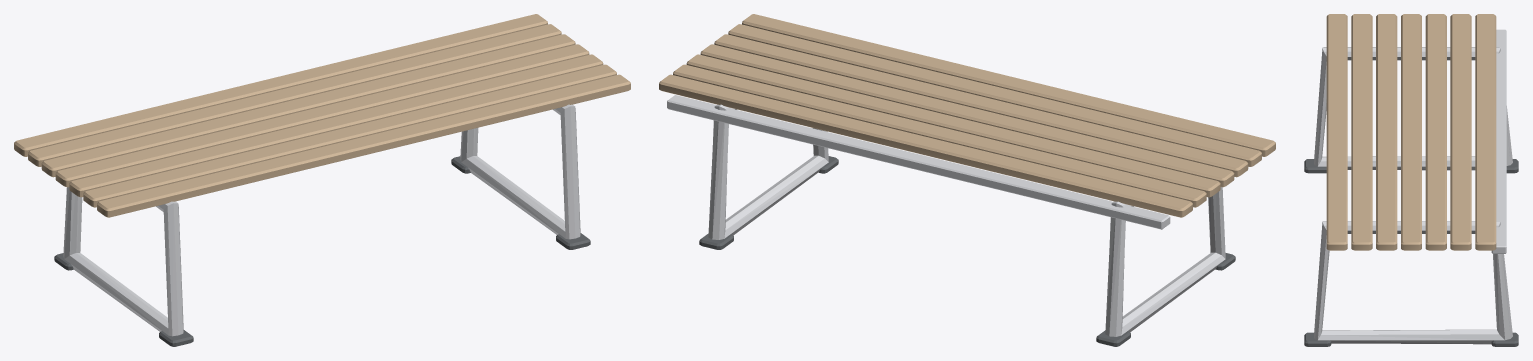
File: SM_Retail_25366_ConcourseBench.fbx
3 renders of one model, left to right at view 1: azimuth 30°, elevation 25°; view 2: azimuth 150°, elevation 25°; view 3: azimuth 270°, elevation 25°, orthographic. The views are drawn at different scales.
Parts seen in each view (by area): view 1: SM_Retail_25366_ConcourseBench; view 2: SM_Retail_25366_ConcourseBench; view 3: SM_Retail_25366_ConcourseBench.
Boxes of the visible parts, x1,y1,x2,y2 form: SM_Retail_25366_ConcourseBench: (14,14,630,346); SM_Retail_25366_ConcourseBench: (659,14,1275,346); SM_Retail_25366_ConcourseBench: (1304,14,1518,346).
Bounding box in the file's own units: 180 × 71 × 47.1.
